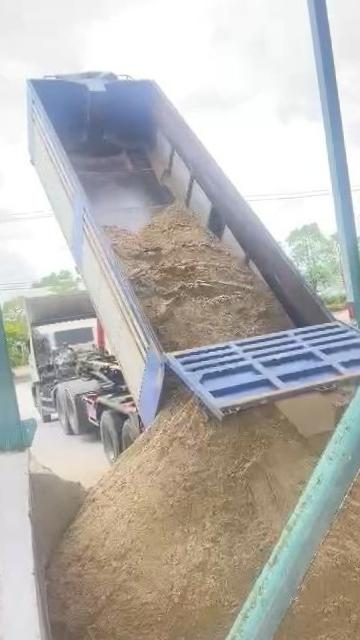sand: (49, 391, 328, 640), (108, 209, 290, 348), (258, 453, 360, 640), (31, 459, 85, 568), (281, 393, 336, 438), (334, 388, 354, 423)
